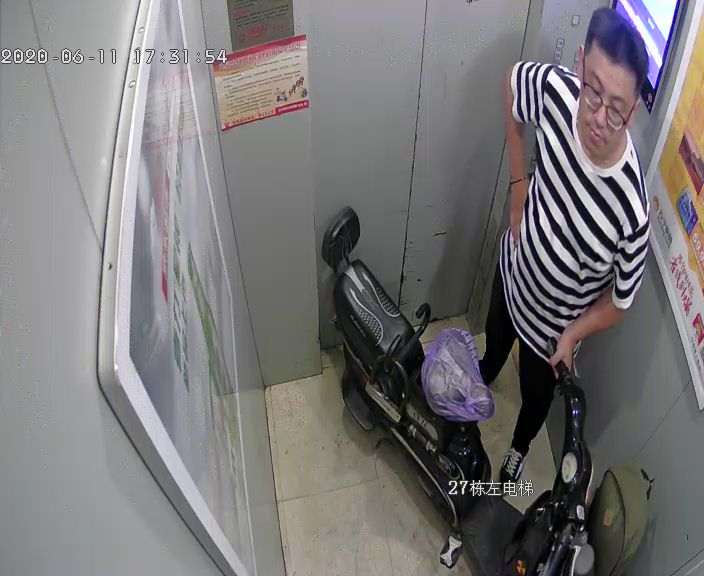Electric-bicycle: (323, 209, 593, 569)
